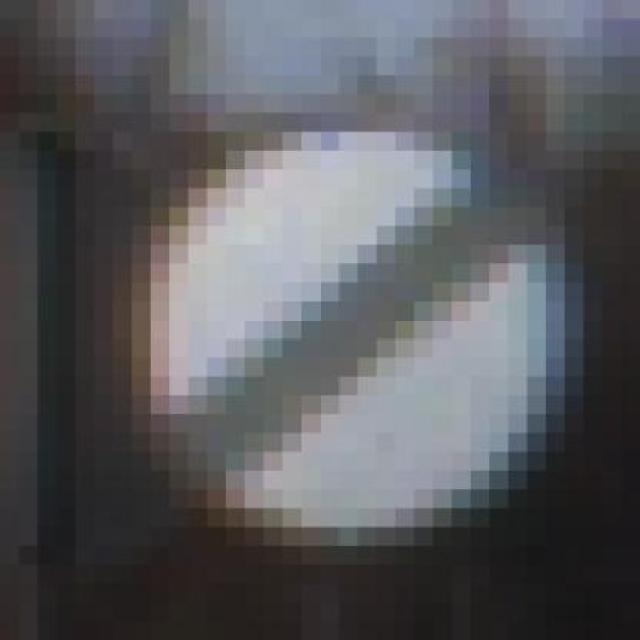End of all speed and passing limits: (113, 94, 602, 546)
